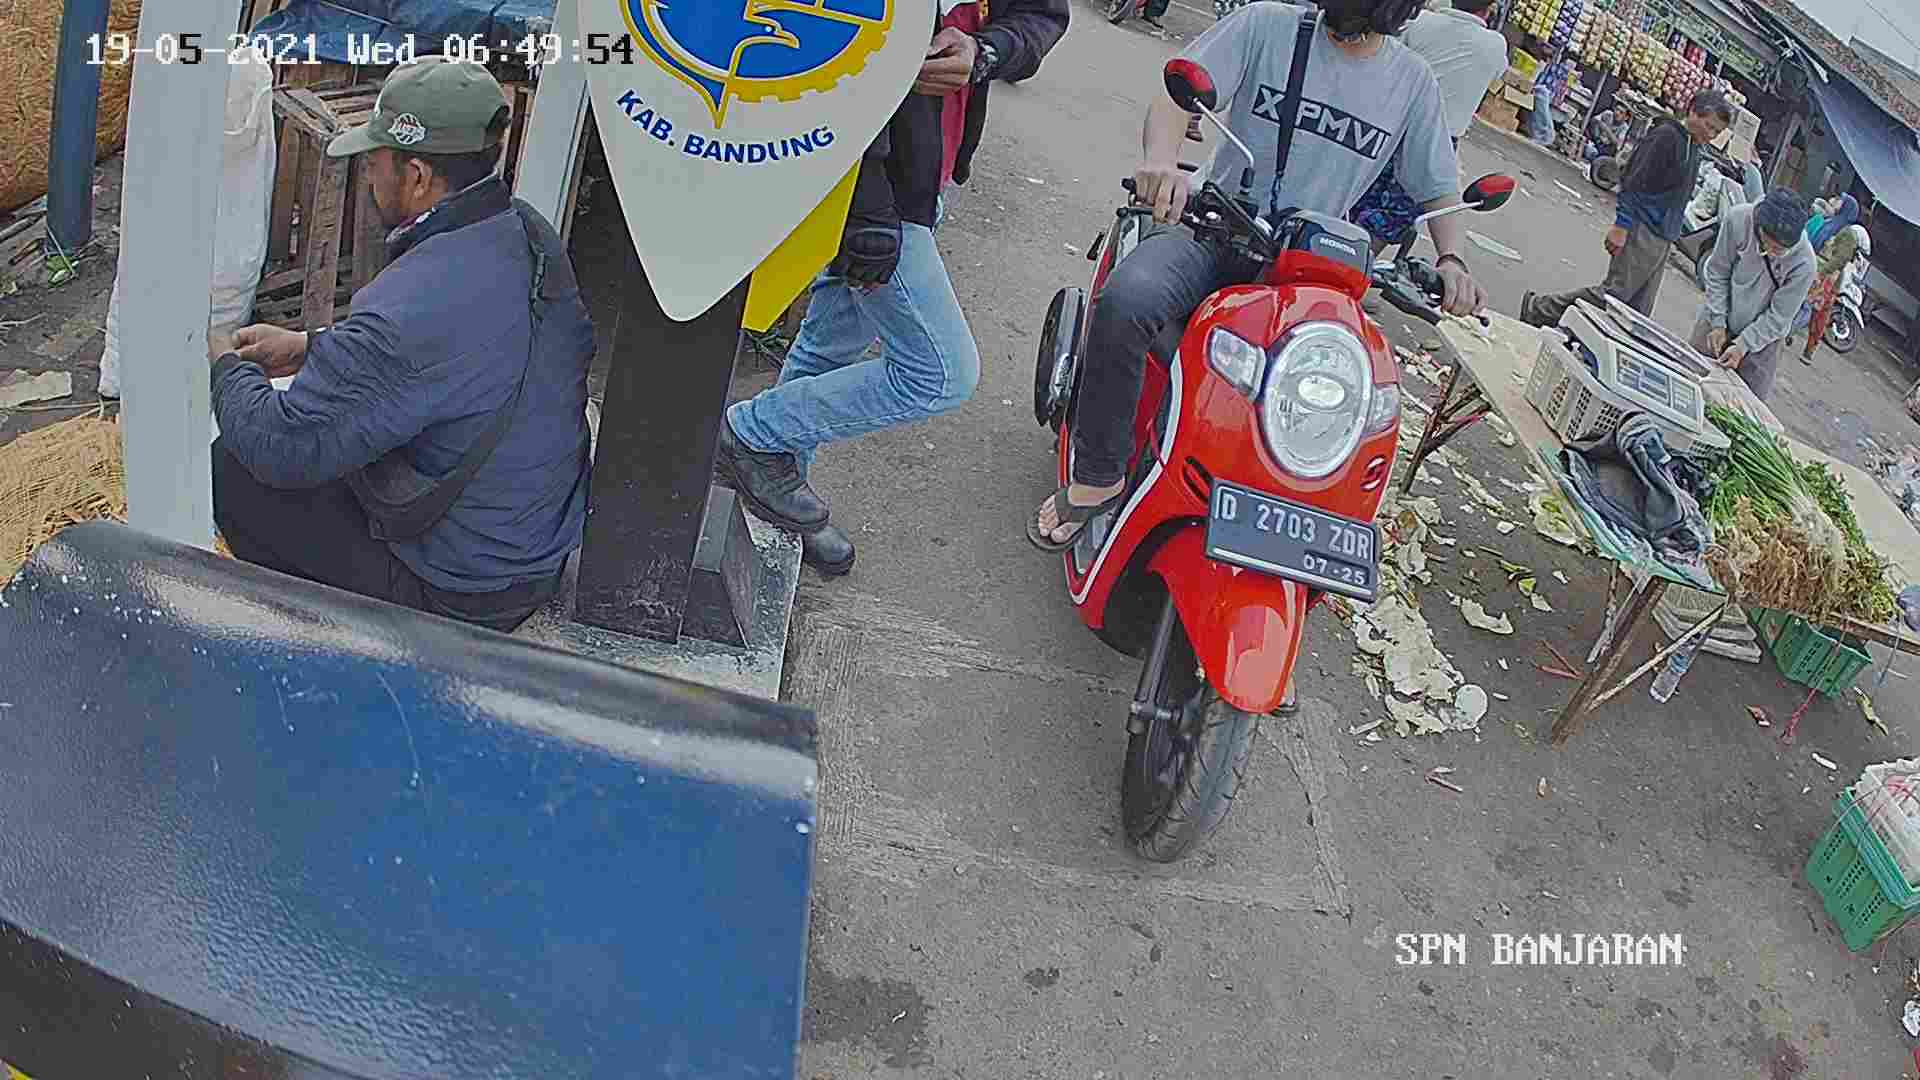motor: (1051, 169, 1414, 869)
